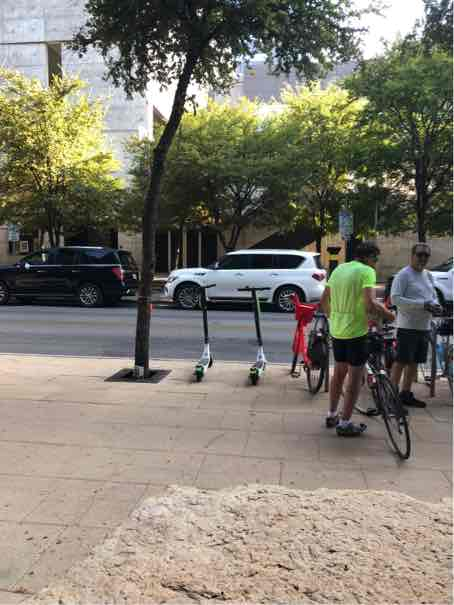scooter: (224, 280, 295, 386)
